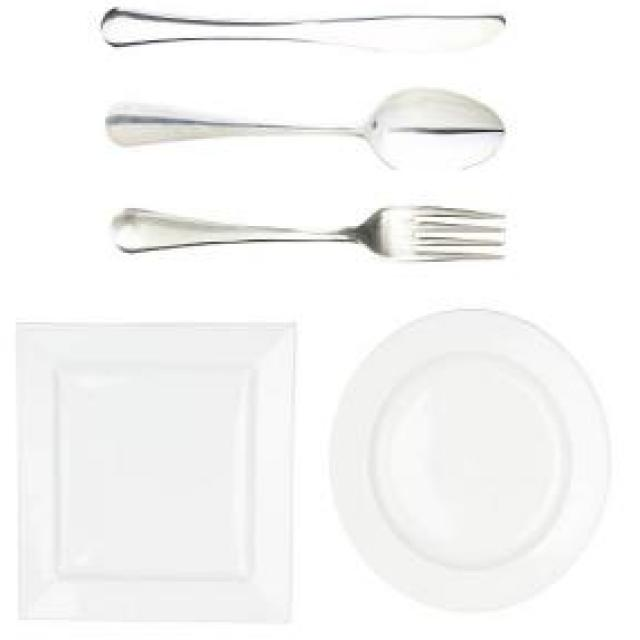knife: (99, 7, 504, 56)
